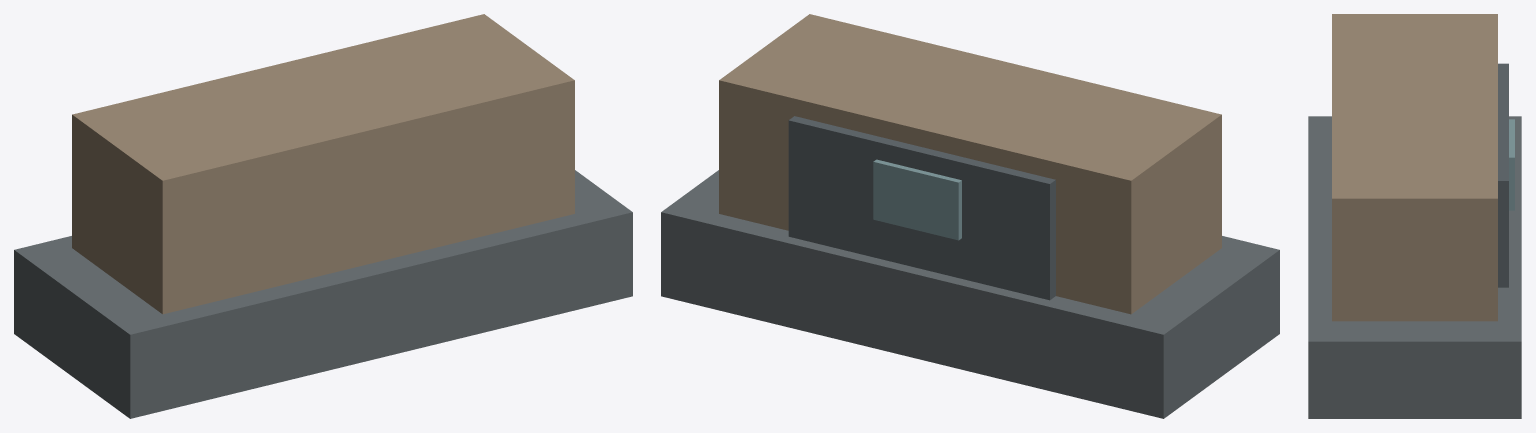
The model's file is iz3_school_labbench_02.glb.
The picture shows the model from 3 angles, left to right: view 1: azimuth 30°, elevation 25°; view 2: azimuth 150°, elevation 25°; view 3: azimuth 270°, elevation 25°; orthographic projection. The views are drawn at different scales.
Visible parts, largest first — view 1: cabinet, base; view 2: cabinet, base, panel, display; view 3: cabinet, base, panel, display.
Part boxes in pixels (x1,y1,x2,y2): cabinet: [72, 14, 574, 314]; base: [14, 170, 632, 418]; cabinet: [719, 14, 1221, 314]; base: [661, 170, 1279, 418]; panel: [788, 116, 1055, 300]; display: [873, 159, 961, 240]; cabinet: [1332, 14, 1497, 321]; base: [1308, 116, 1521, 418]; panel: [1498, 63, 1508, 287]; display: [1509, 119, 1514, 210].
Size of the model in its own units: 2 by 0.828 by 0.8.
